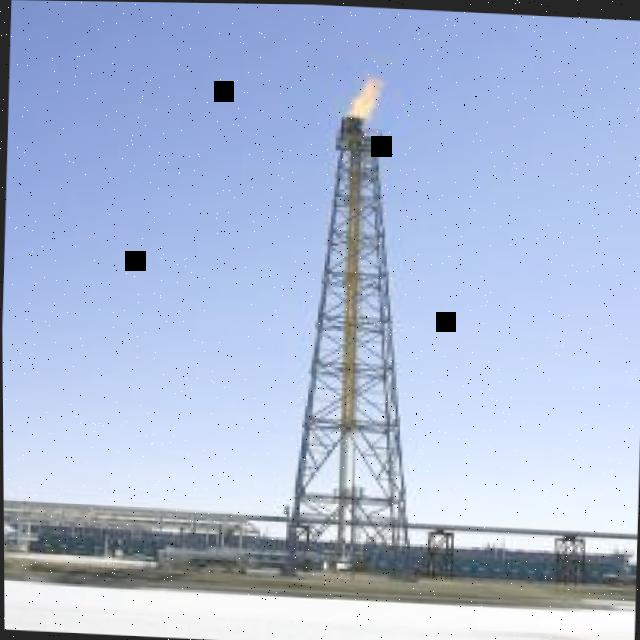fire: (347, 75, 385, 119)
